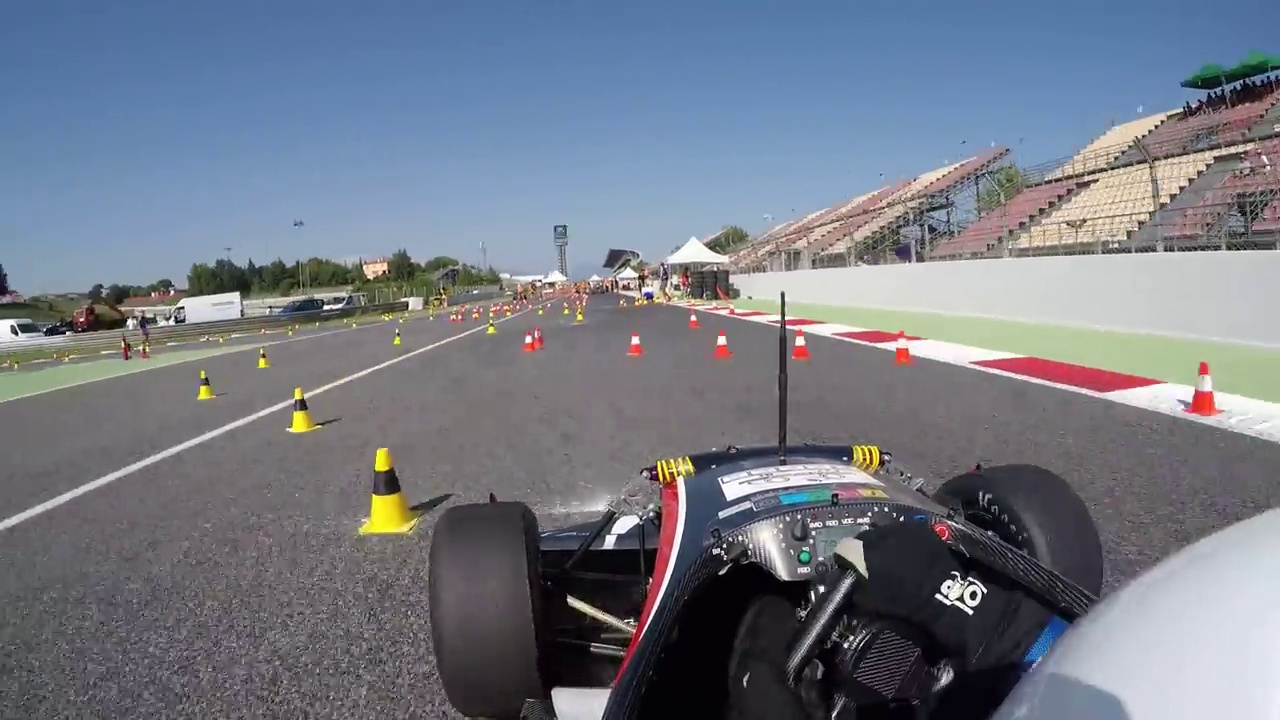Cone: (356, 440, 418, 536), (1188, 359, 1218, 416), (289, 388, 320, 432), (891, 329, 915, 368), (709, 327, 735, 358), (194, 366, 216, 399), (790, 326, 809, 358)
